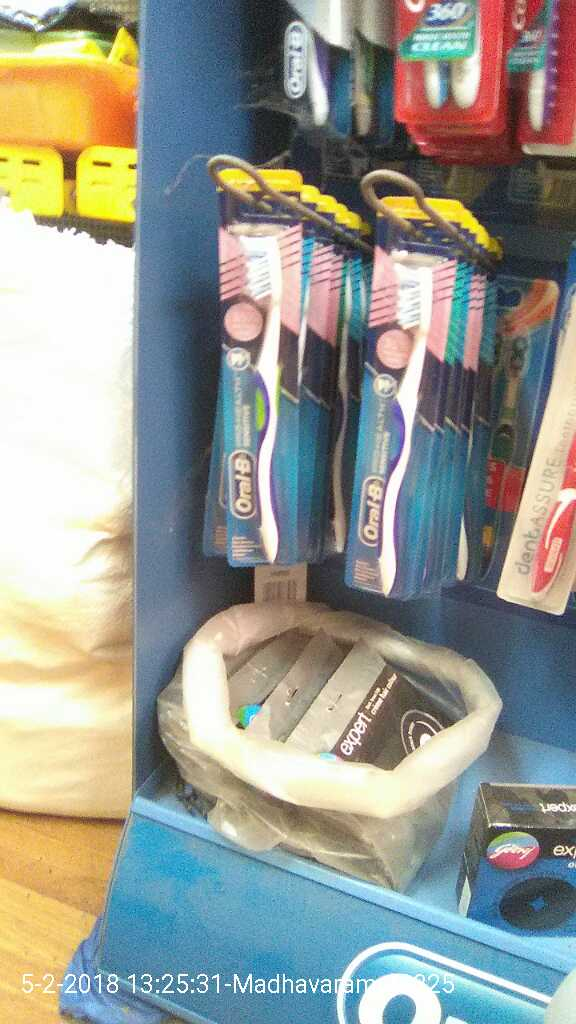oralb: (346, 236, 451, 619), (218, 199, 300, 573)
